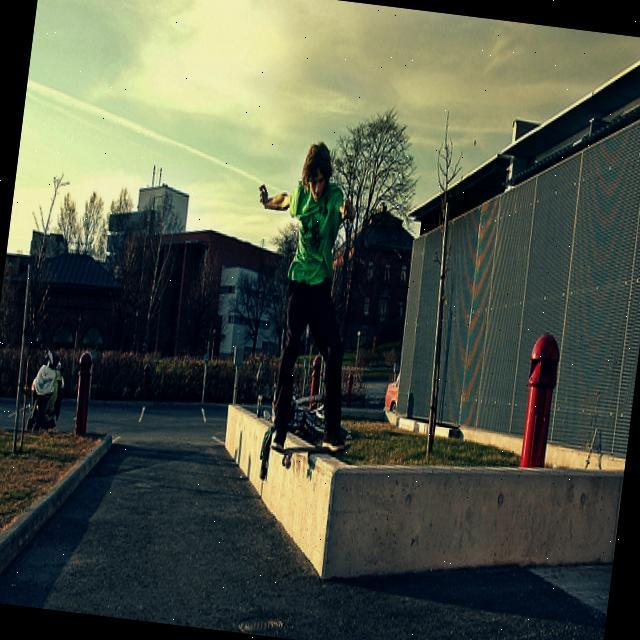fire_hydrant: (516, 332, 564, 470), (70, 348, 96, 436), (305, 352, 323, 409)
